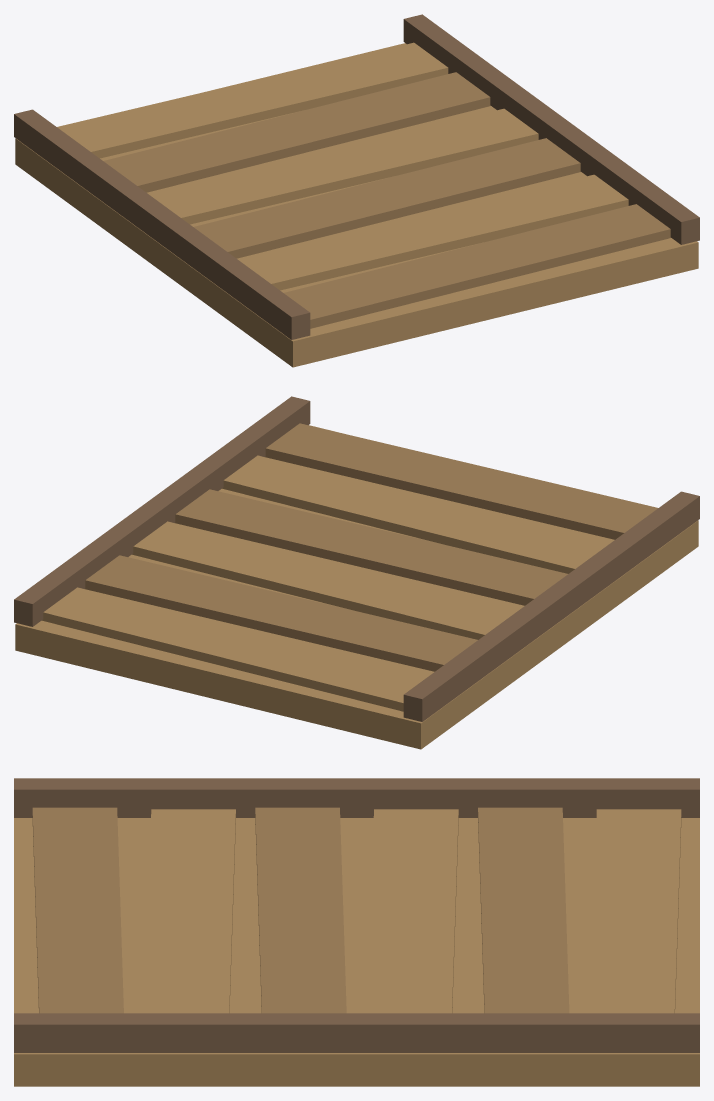
The model's file is track_wood_1lane.glb.
The picture shows the model from 3 angles, top to bottom: view 1: azimuth 30°, elevation 25°; view 2: azimuth 150°, elevation 25°; view 3: azimuth 270°, elevation 25°; orthographic projection. The views are drawn at different scales.
Parts seen in each view (by area): view 1: track_wood_1lane; view 2: track_wood_1lane; view 3: track_wood_1lane.
Boxes of the visible parts, left/top/right/bottom form: track_wood_1lane: left=14, top=14, right=699, bottom=367; track_wood_1lane: left=14, top=396, right=699, bottom=749; track_wood_1lane: left=14, top=778, right=699, bottom=1086.
Bounding box in the file's own units: 2.62 × 0.31 × 3.08.
